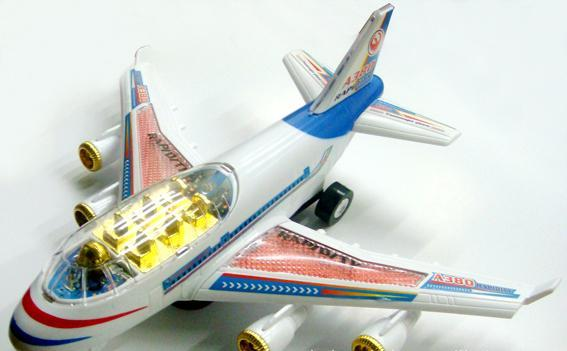airplane: (4, 4, 555, 349)
